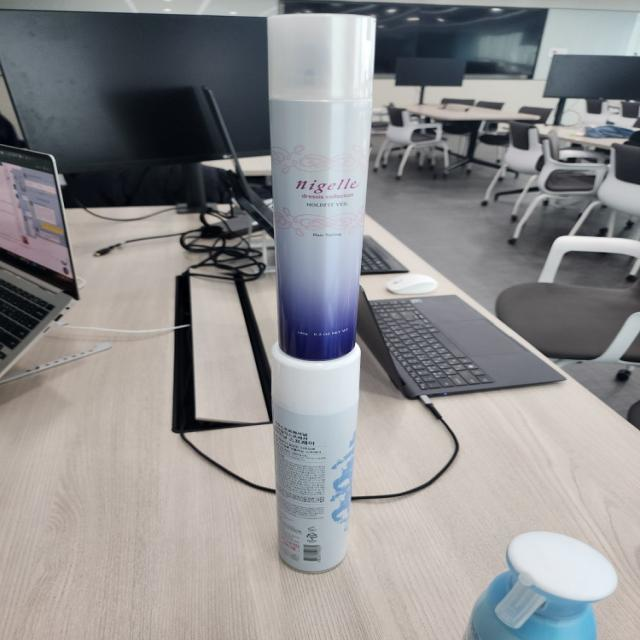spray: (271, 13, 374, 355), (264, 343, 360, 575), (463, 524, 623, 640)
